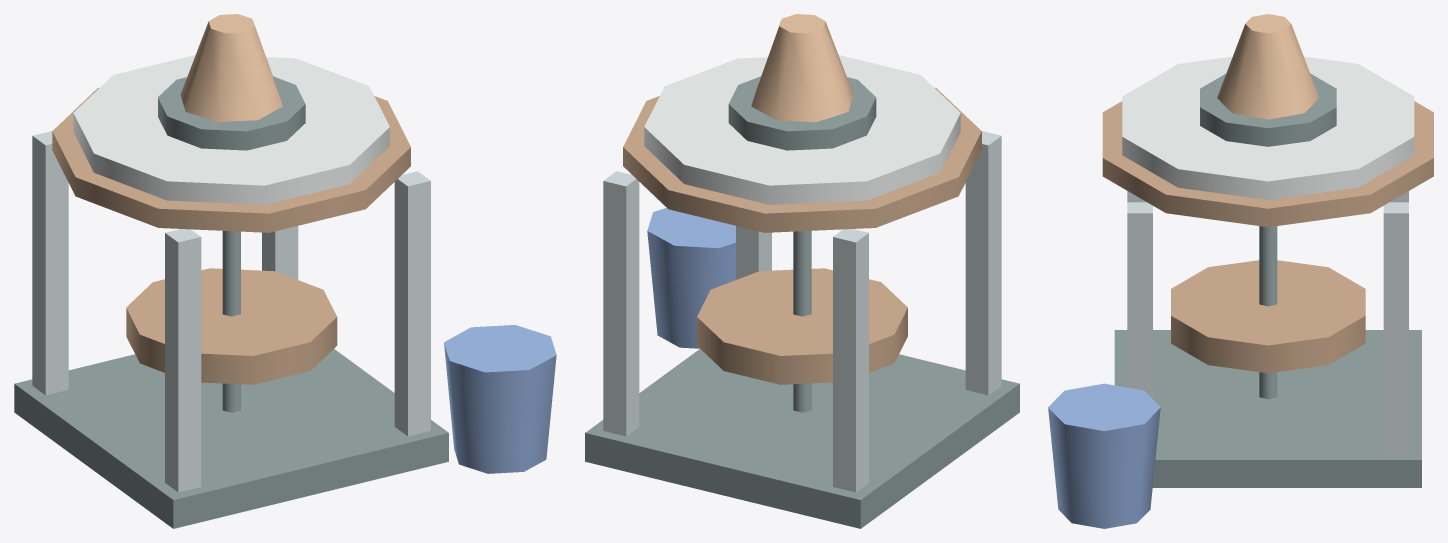
The model's file is potteryWheel.glb.
3 renders of one model, left to right at view 1: azimuth 30°, elevation 25°; view 2: azimuth 150°, elevation 25°; view 3: azimuth 270°, elevation 25°, orthographic. The views are drawn at different scales.
Visible parts, largest first — view 1: potteryWheel; view 2: potteryWheel; view 3: potteryWheel.
Boxes of the visible parts, x1=… form: potteryWheel: x1=14, y1=14, x2=556, y2=528; potteryWheel: x1=585, y1=14, x2=1019, y2=528; potteryWheel: x1=1048, y1=14, x2=1433, y2=528.
Size of the model in its own units: 0.425 by 0.43 by 0.3767.
